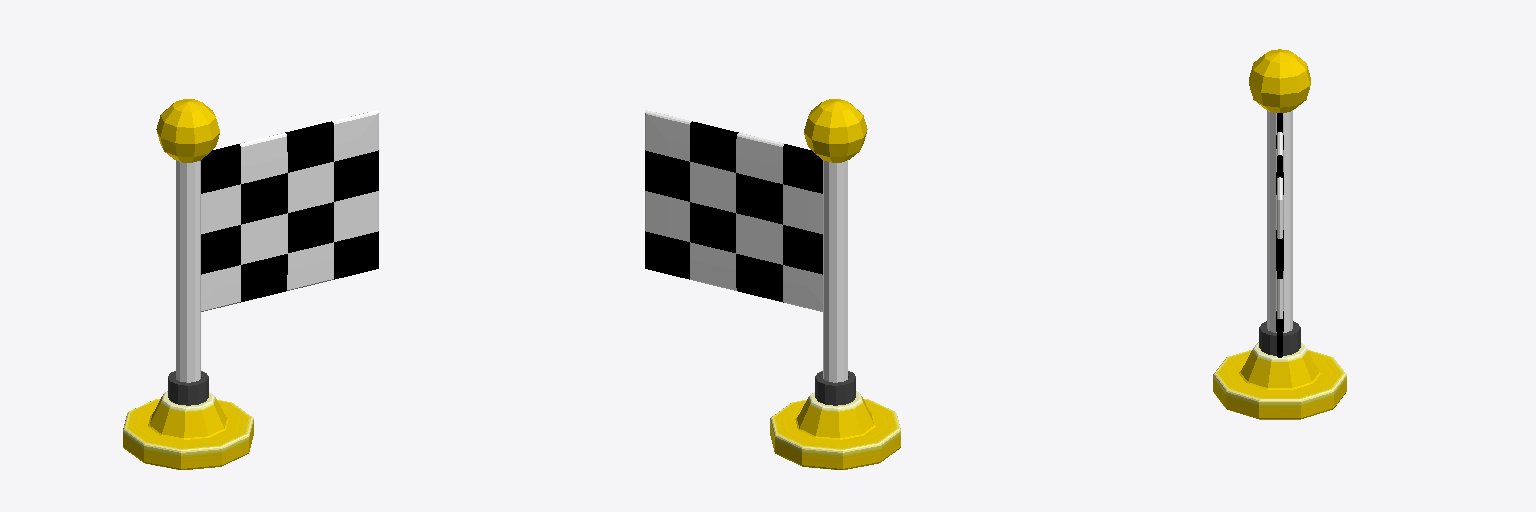
3 views of the same model, side by side, from view 1: azimuth 30°, elevation 25°; view 2: azimuth 150°, elevation 25°; view 3: azimuth 270°, elevation 25° (orthographic).
Visible parts, largest first — view 1: pCube1__Mt_Flag, pCylinder1__Mt_Gold, pCylinder2__Mt_Body, pPipe1__Mt_Body; view 2: pCube1__Mt_Flag, pCylinder1__Mt_Gold, pCylinder2__Mt_Body, pPipe1__Mt_Body; view 3: pCylinder1__Mt_Gold, pCylinder2__Mt_Body, pCube1__Mt_Flag, pPipe1__Mt_Body.
Part boxes in pixels (x1,y1,x2,y2): pCube1__Mt_Flag: (201,110,378,311); pCylinder1__Mt_Gold: (123,99,253,469); pCylinder2__Mt_Body: (176,160,200,382); pPipe1__Mt_Body: (168,371,208,405); pCube1__Mt_Flag: (645,110,822,311); pCylinder1__Mt_Gold: (770,99,900,469); pCylinder2__Mt_Body: (823,160,847,382); pPipe1__Mt_Body: (815,371,855,405); pCylinder1__Mt_Gold: (1213,49,1346,419); pCylinder2__Mt_Body: (1267,110,1292,332); pCube1__Mt_Flag: (1276,113,1283,357); pPipe1__Mt_Body: (1259,321,1300,355).
Size of the model in its own units: 141 by 187 by 66.45.
Materials: 3 (3 with a texture image).